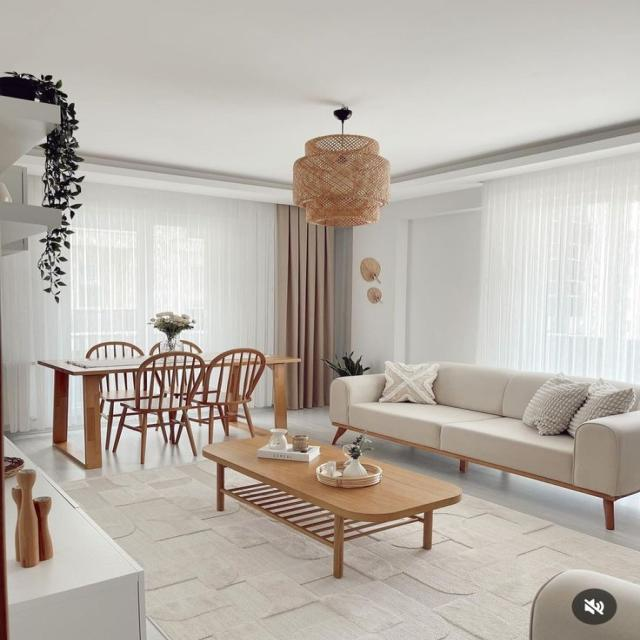obstacle: (328, 360, 639, 530), (201, 433, 462, 578), (38, 352, 302, 469), (124, 354, 196, 460)
